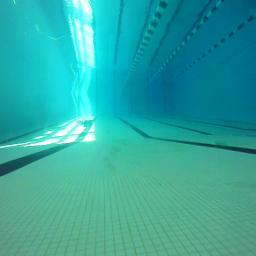Full: (81, 120, 94, 127)
